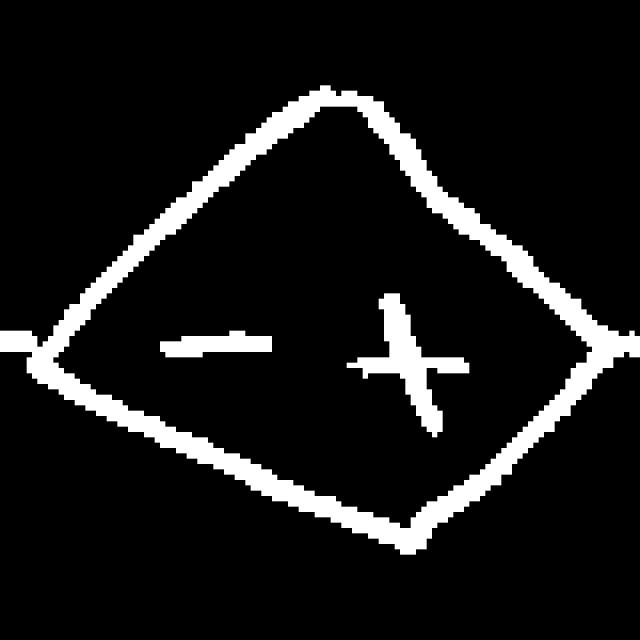dependant_voltage: (28, 103, 599, 550)
